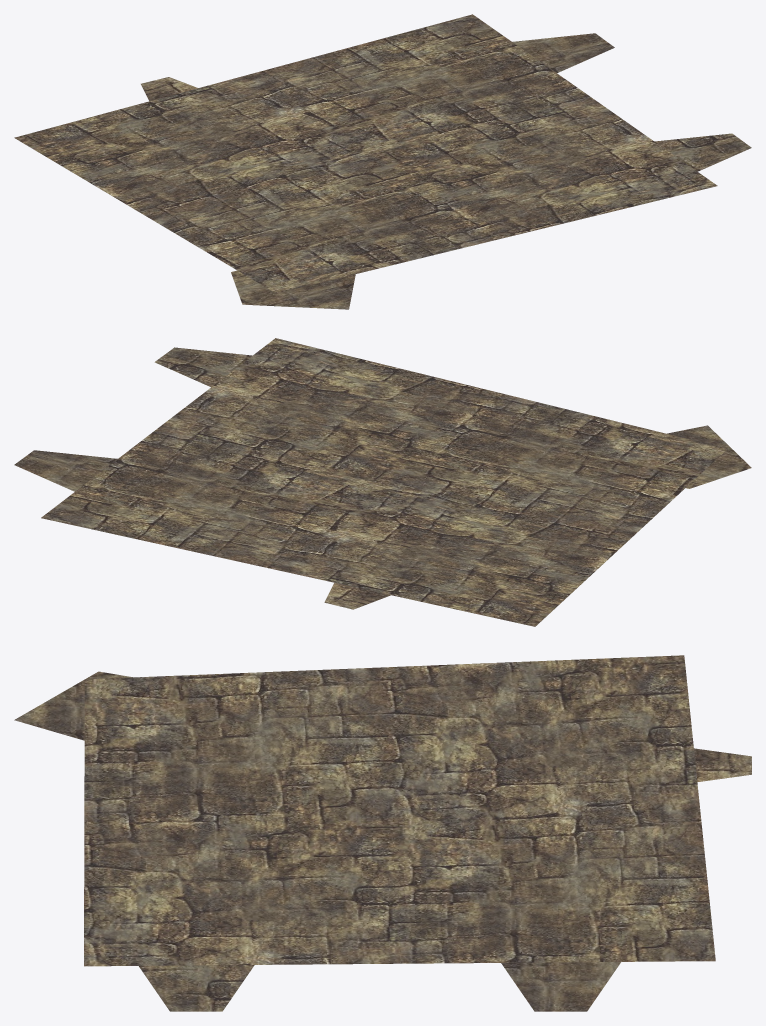
Rendered from fort_small_footprint.fbx.
3 renders of one model, top to bottom at view 1: azimuth 30°, elevation 25°; view 2: azimuth 150°, elevation 25°; view 3: azimuth 270°, elevation 25°, orthographic. The views are drawn at different scales.
Visible parts, largest first — view 1: footprint; view 2: footprint; view 3: footprint.
Boxes of the visible parts, <box> form: footprint: <box>14,14,751,309</box>; footprint: <box>14,338,751,626</box>; footprint: <box>14,655,751,1011</box>.
Bounding box in the file's own units: 16080 × 241 × 14161.
1 material, 1 textured.
